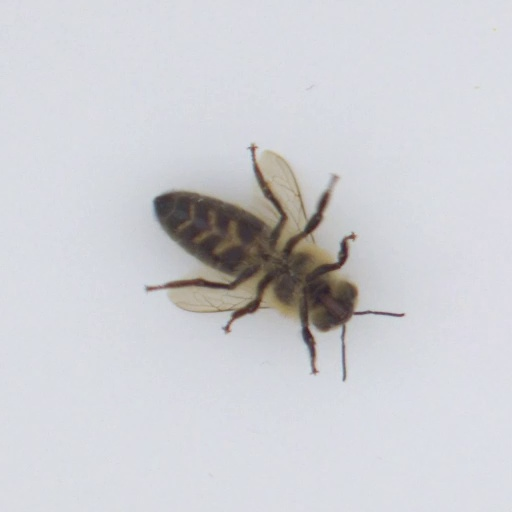Bee: (124, 171, 372, 339)
